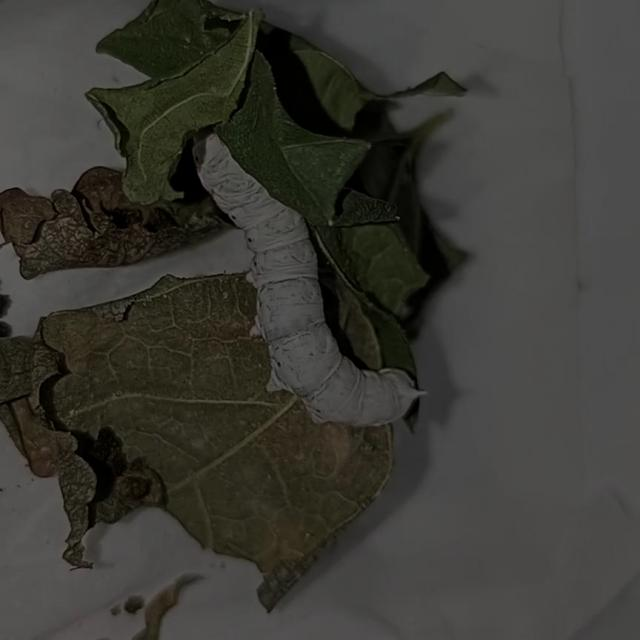Healthy: (137, 100, 438, 472)
